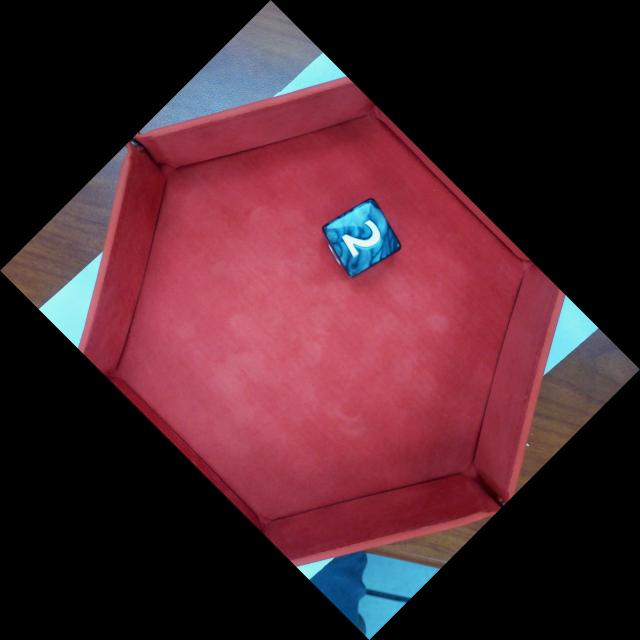dice: (323, 203, 399, 274)
